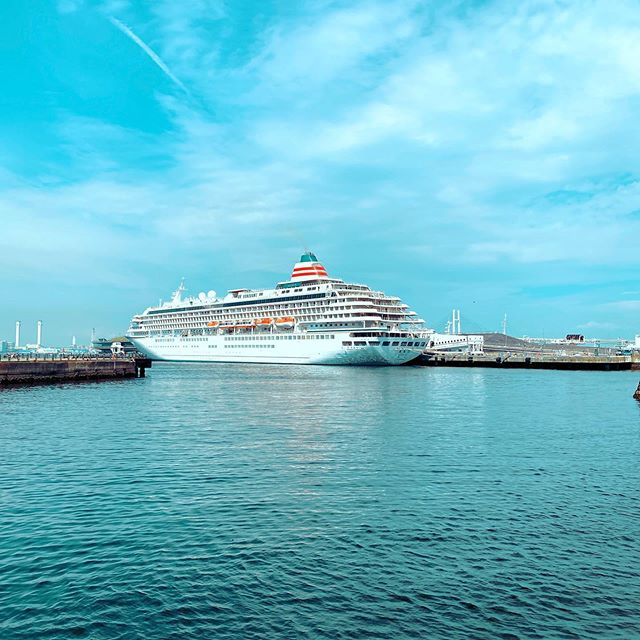boat: (133, 248, 441, 375)
river: (11, 371, 632, 628)
sky: (1, 1, 635, 320)
